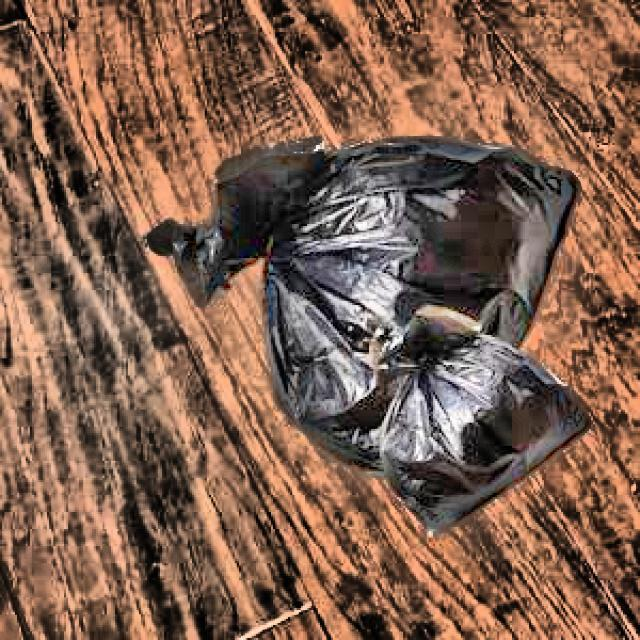Trashbag: (185, 116, 595, 515)
